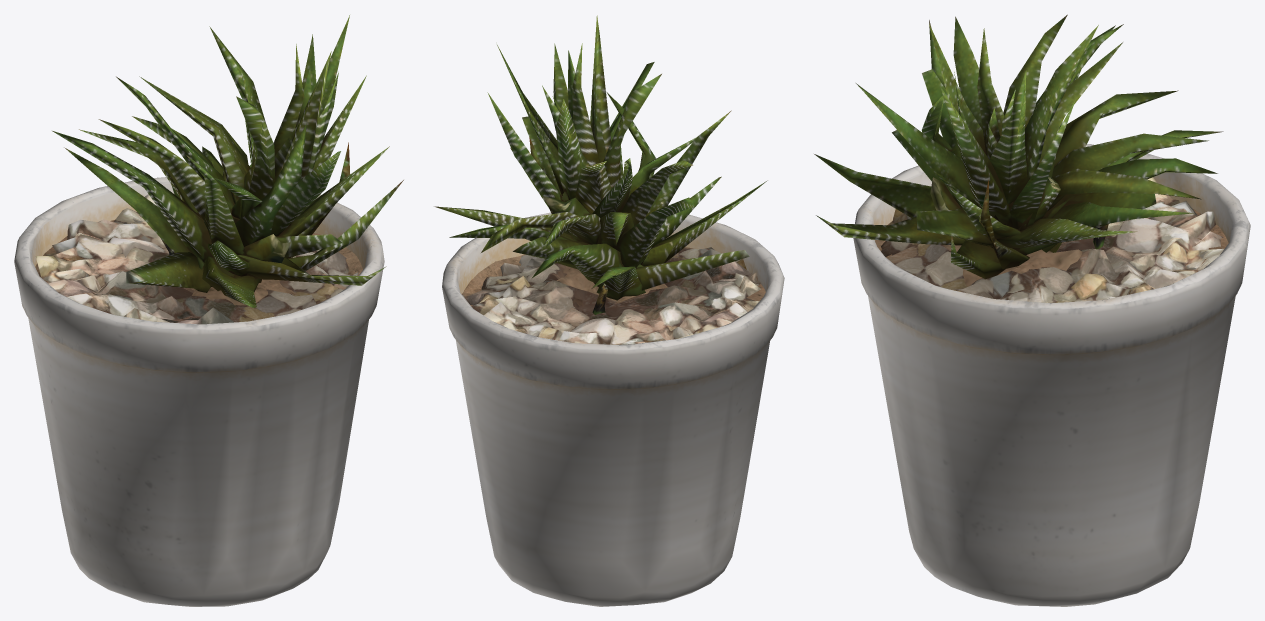
File: PottedPlantLOD1.fbx
3 renders of one model, left to right at view 1: azimuth 30°, elevation 25°; view 2: azimuth 150°, elevation 25°; view 3: azimuth 270°, elevation 25°, orthographic. The views are drawn at different scales.
Visible parts, largest first — view 1: potted_plant_04_pot, potted_plant_04_plant, potted_plant_04_ground, potted_plant_04_dirt; view 2: potted_plant_04_pot, potted_plant_04_plant, potted_plant_04_ground, potted_plant_04_dirt; view 3: potted_plant_04_pot, potted_plant_04_plant, potted_plant_04_ground, potted_plant_04_dirt.
Boxes of the visible parts, x1,y1,x2,y2 form: potted_plant_04_pot: (14,177,384,606); potted_plant_04_plant: (52,15,403,307); potted_plant_04_ground: (35,194,358,324); potted_plant_04_dirt: (35,220,362,305); potted_plant_04_pot: (442,212,784,606); potted_plant_04_plant: (434,15,767,314); potted_plant_04_ground: (462,247,760,344); potted_plant_04_dirt: (461,247,765,306); potted_plant_04_pot: (853,144,1250,606); potted_plant_04_plant: (814,14,1223,279); potted_plant_04_ground: (881,177,1224,303); potted_plant_04_dirt: (875,209,1228,286).
Bounding box in the file's own units: 16.8 × 26.7 × 18.48.
